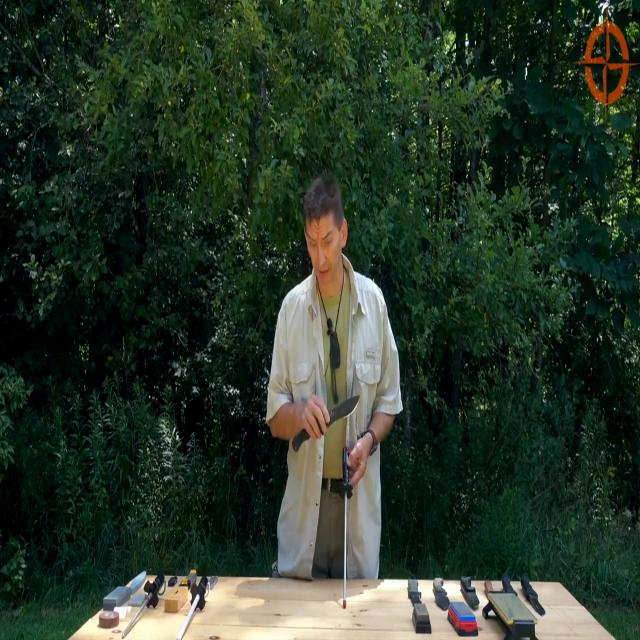knife: (291, 394, 365, 457), (521, 564, 547, 623), (460, 566, 481, 617), (433, 571, 452, 613)
